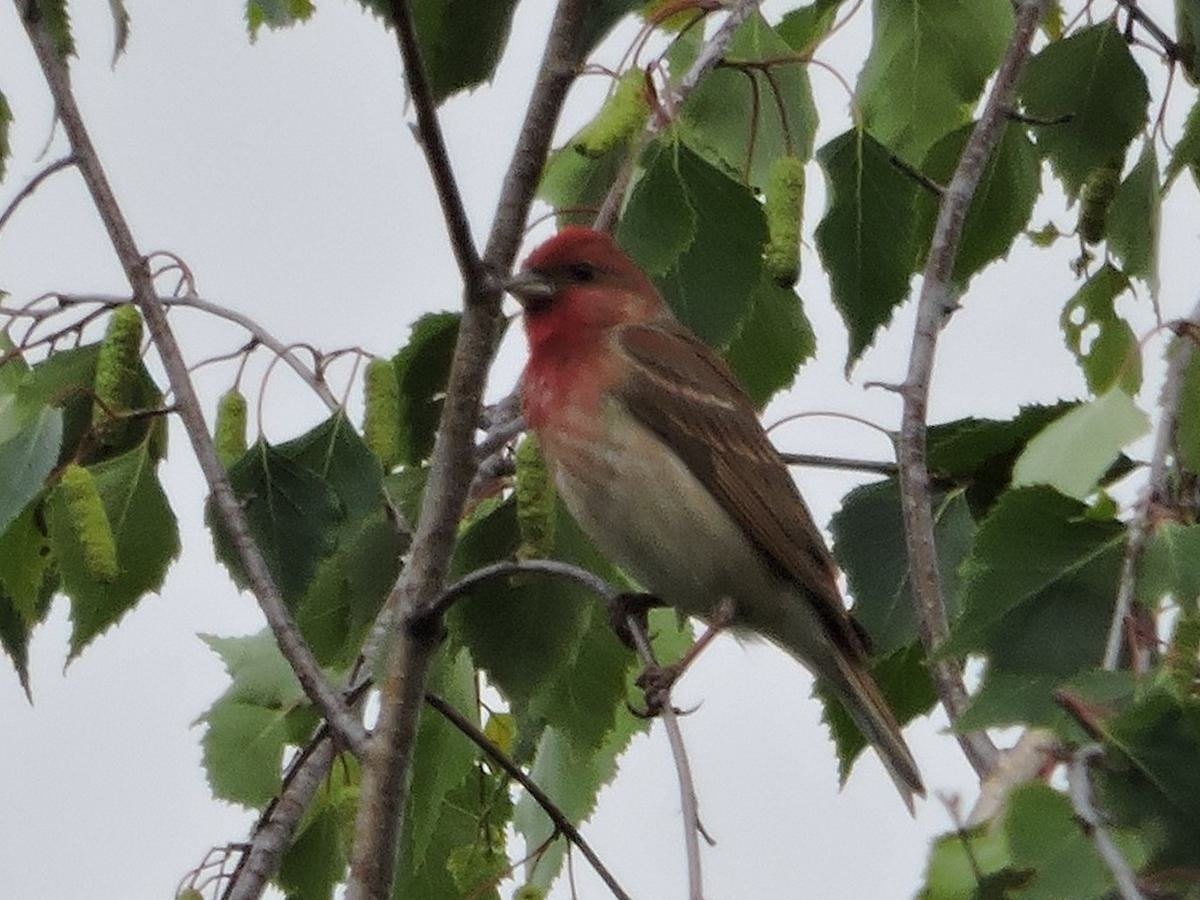rosefinch: (503, 210, 903, 714)
